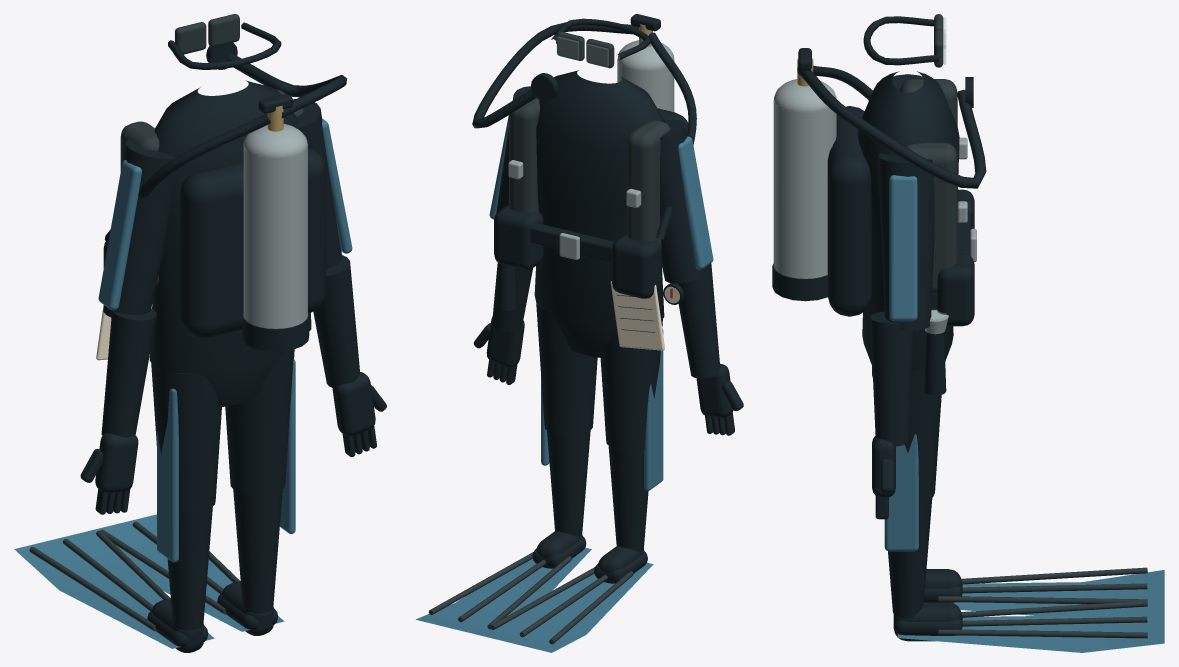
Rendered from scuba.glb.
The picture shows the model from 3 angles, left to right: view 1: azimuth 30°, elevation 25°; view 2: azimuth 150°, elevation 25°; view 3: azimuth 270°, elevation 25°; orthographic projection. The views are drawn at different scales.
Parts seen in each view (by area): view 1: Original authored part (×23), Wetsuit torso, Air cylinder, Forearm (×2), Sleeve (×2), Glove palm (×2), Primary regulator hose, Dive boot (×2), Inflator hose, Mask strap; view 2: Original authored part (×29), Wetsuit torso, Sleeve (×2), Forearm (×2), Glove palm (×2), Primary regulator hose, Dive boot (×2), Air cylinder, Inflator hose, Mask strap; view 3: Original authored part (×20), Air cylinder, Wetsuit torso, Forearm, Sleeve, Primary regulator hose, Dive boot (×2), Mask strap, Glove palm, Inflator hose.
Part boxes in pixels (x1,y1,x2,y2): Original authored part (×23): (14,14,352,648); Wetsuit torso: (149,80,297,407); Air cylinder: (243,144,307,328); Forearm (×2): (101,255,359,437); Sleeve (×2): (103,99,341,317); Glove palm (×2): (95,372,375,493); Primary regulator hose: (224,51,346,118); Dive boot (×2): (152,582,273,652); Inflator hose: (104,114,270,242); Mask strap: (168,22,281,69); Original authored part (×29): (416,31,713,652); Wetsuit torso: (534,70,664,357); Sleeve (×2): (496,86,704,283); Forearm (×2): (492,262,720,378); Glove palm (×2): (486,317,733,417); Primary regulator hose: (472,22,638,128); Dive boot (×2): (536,531,644,583); Air cylinder: (617,58,674,111); Inflator hose: (648,32,696,239); Mask strap: (551,18,650,59); Original authored part (×20): (772,79,1164,652); Air cylinder: (773,100,836,278); Wetsuit torso: (857,71,959,371); Forearm: (870,311,914,446); Sleeve: (878,153,934,330); Primary regulator hose: (797,67,986,188); Dive boot (×2): (893,569,961,641); Mask strap: (863,16,938,65); Glove palm: (872,436,895,497); Inflator hose: (813,65,872,100).
Bounding box in the file's own units: 0.9956 × 1.92 × 1.15.
